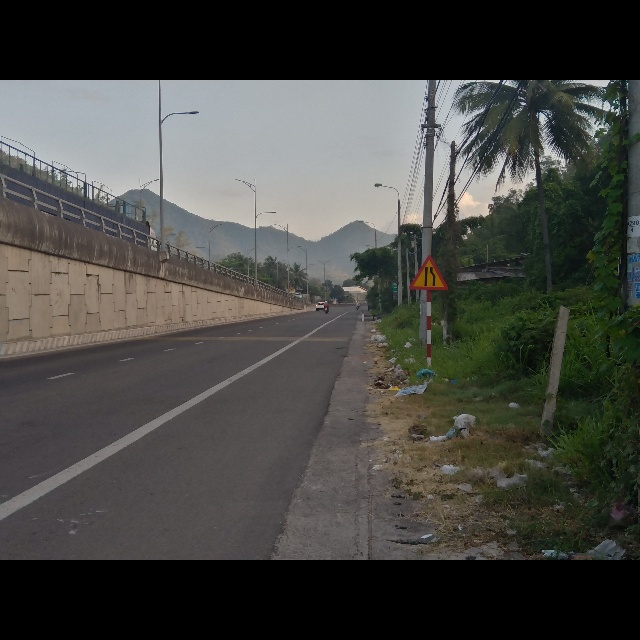Đường bị hẹp bên phải: (408, 256, 448, 291)
